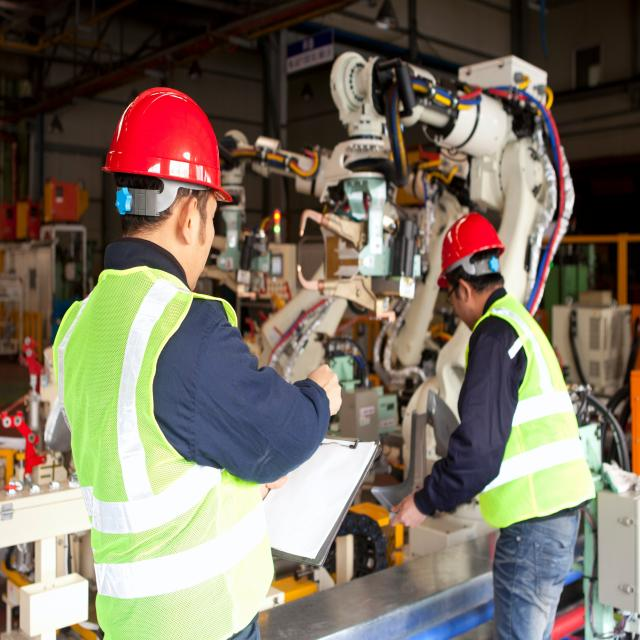Reflective-Jacket: (56, 265, 274, 638), (464, 292, 596, 534)
Safety-Helmet: (100, 84, 233, 206), (434, 207, 508, 287)
